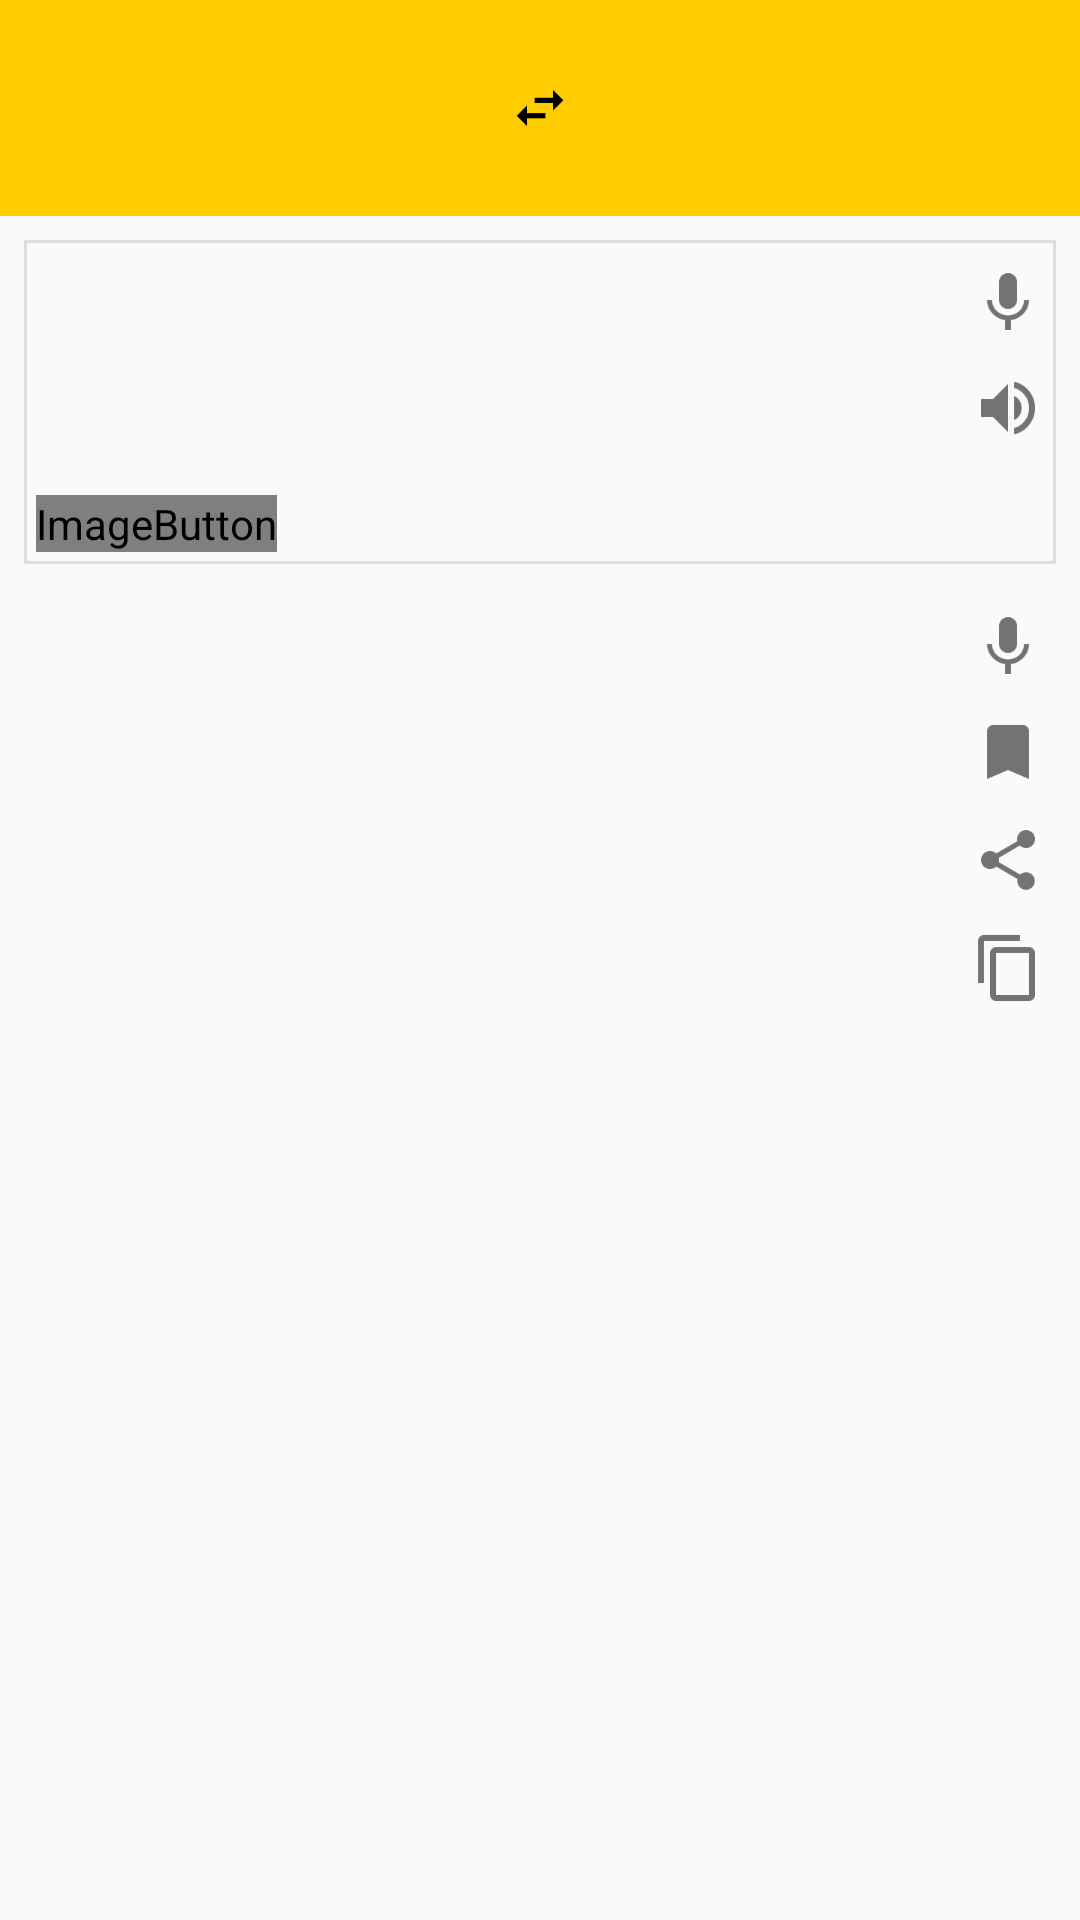

Icon click points for this 1080px×1920px phone screenshot, format point (x, y):
swap horiz: point (540, 108)
translate bookmark: point (1008, 752)
translate input phone: point (1008, 301), point (1008, 645)
translate input voice play: point (1008, 408)
translate share: point (1008, 860)
